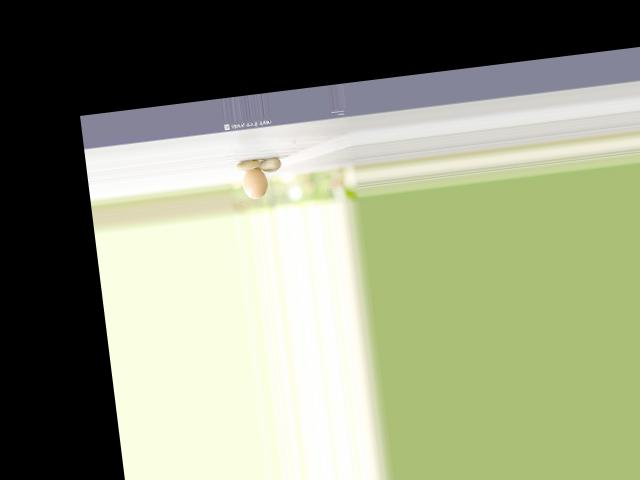egg: (241, 166, 269, 199)
